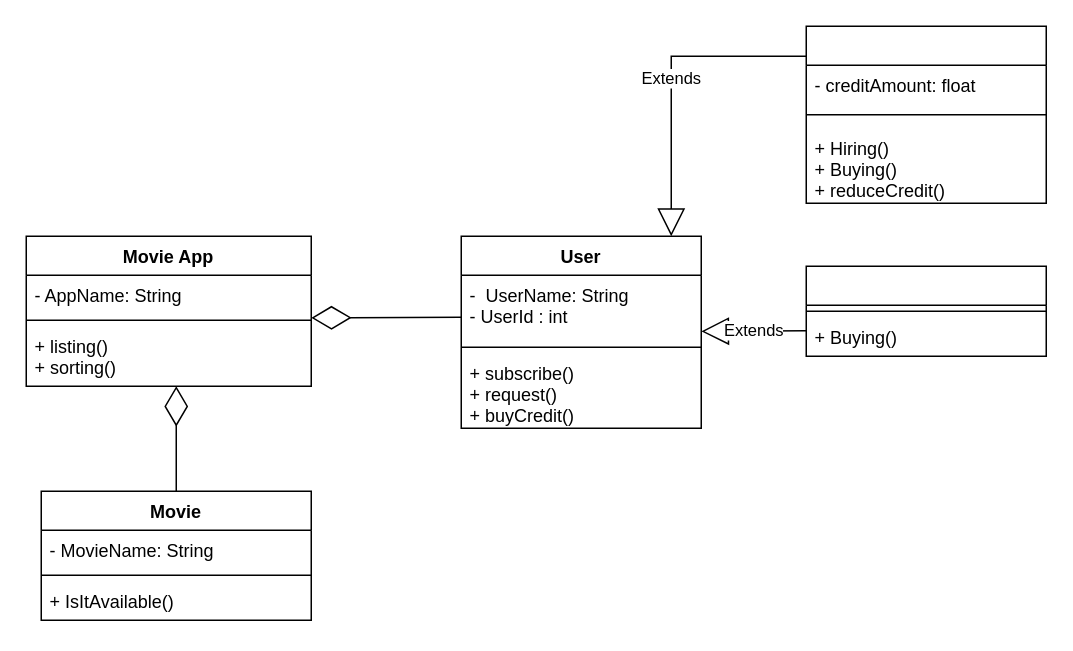
Image size: 1073x651. Some labels were removed from this diagram. Each missing label, with the box of its shape:
Normal User: (805, 265, 1046, 356)
Subscriber: (805, 25, 1046, 203)
